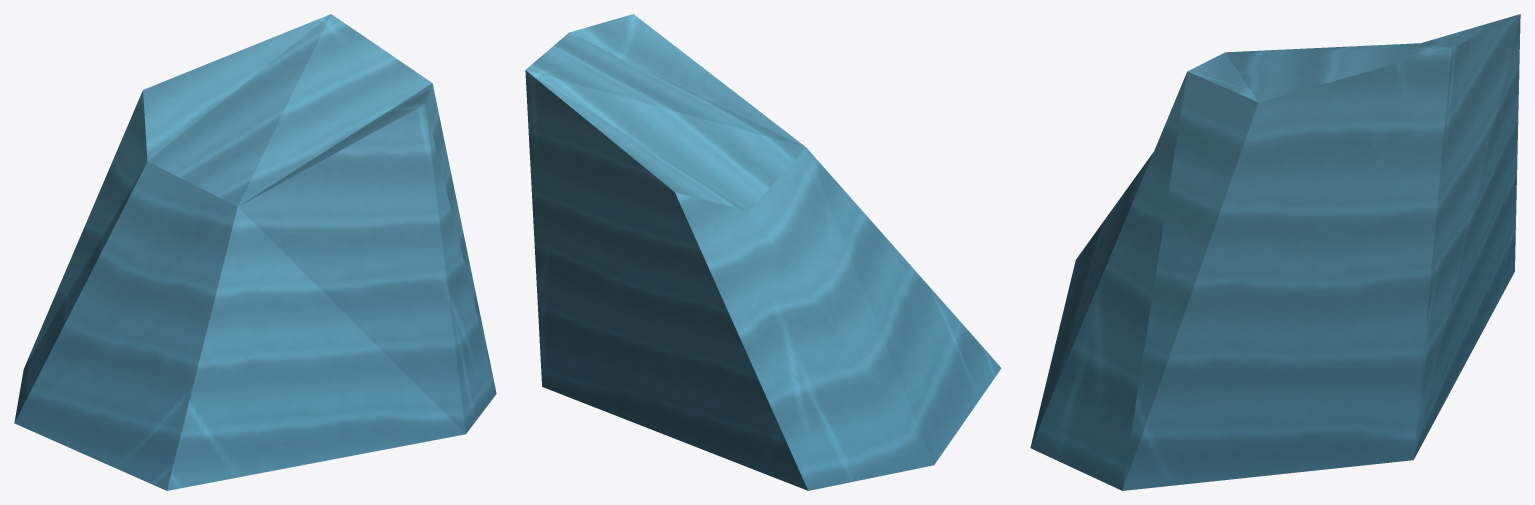
Rendered from ice_blue_calved_block_LOD1.glb.
The picture shows the model from 3 angles, left to right: view 1: azimuth 30°, elevation 25°; view 2: azimuth 150°, elevation 25°; view 3: azimuth 270°, elevation 25°; orthographic projection. The views are drawn at different scales.
Parts seen in each view (by area): view 1: ice_blue_calved_block_LOD1; view 2: ice_blue_calved_block_LOD1; view 3: ice_blue_calved_block_LOD1.
Part boxes in pixels (<box>): ice_blue_calved_block_LOD1: <box>14,14,496,490</box>; ice_blue_calved_block_LOD1: <box>525,14,1001,490</box>; ice_blue_calved_block_LOD1: <box>1030,14,1520,490</box>.
Bounding box in the file's own units: 1.79 × 1.32 × 1.42.
Materials: 1 (1 with a texture image).
